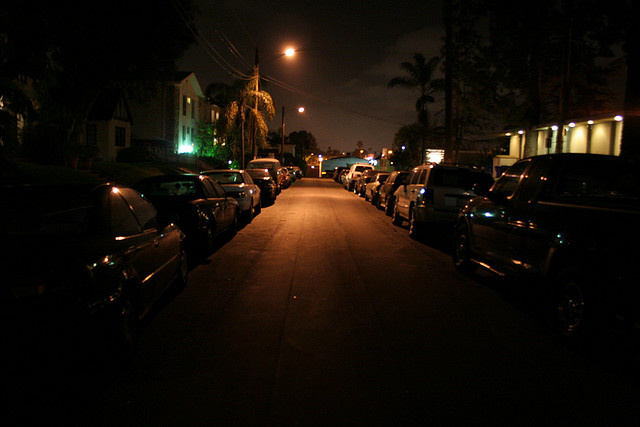car: (454, 150, 636, 325)
